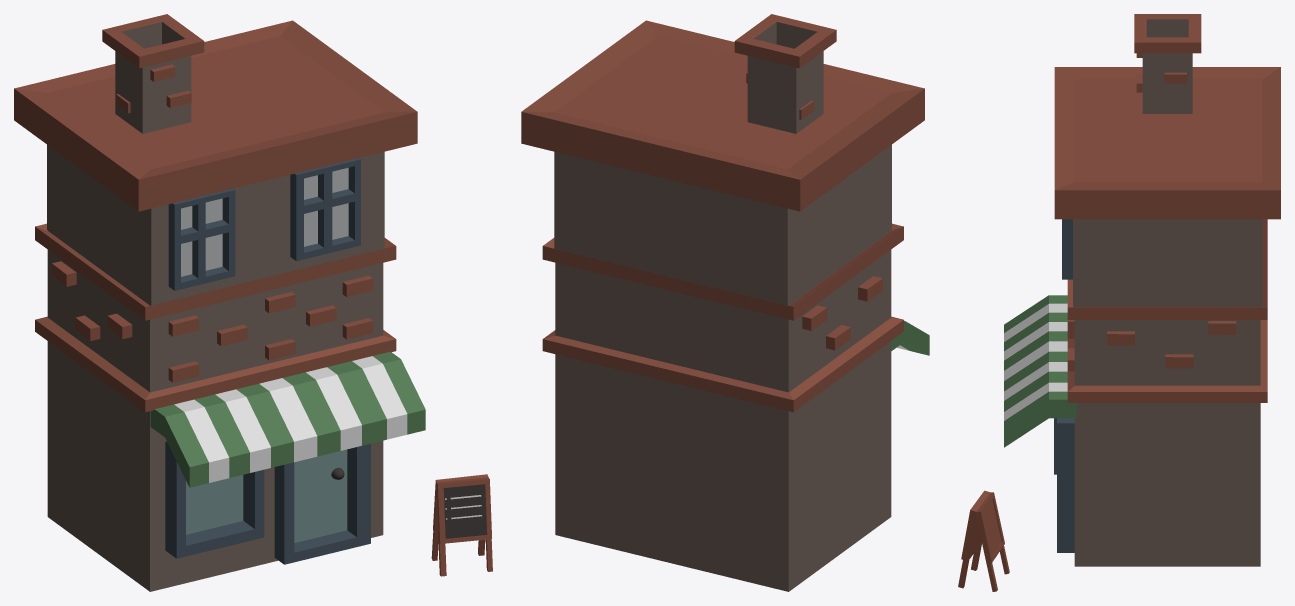
File: building#4.fbx
3 views of the same model, side by side, from view 1: azimuth 30°, elevation 25°; view 2: azimuth 150°, elevation 25°; view 3: azimuth 270°, elevation 25° (orthographic). The views are drawn at different scales.
Visible parts, largest first — view 1: pCube51, pCube53, pCube52, pCube38; view 2: pCube51, pCube53, pCube52; view 3: pCube51, pCube53, pCube52, pCube38.
Part boxes in pixels (bbox=[...]): pCube51: bbox=[14, 14, 417, 305]; pCube53: bbox=[47, 341, 425, 591]; pCube52: bbox=[35, 223, 396, 412]; pCube38: bbox=[431, 474, 492, 576]; pCube51: bbox=[521, 14, 924, 305]; pCube53: bbox=[555, 320, 929, 591]; pCube52: bbox=[542, 223, 903, 412]; pCube51: bbox=[1054, 14, 1280, 306]; pCube53: bbox=[1004, 295, 1260, 566]; pCube52: bbox=[1067, 219, 1267, 402]; pCube38: bbox=[958, 490, 1009, 591].
Size of the model in its own units: 11.68 by 18.1 by 11.51.
